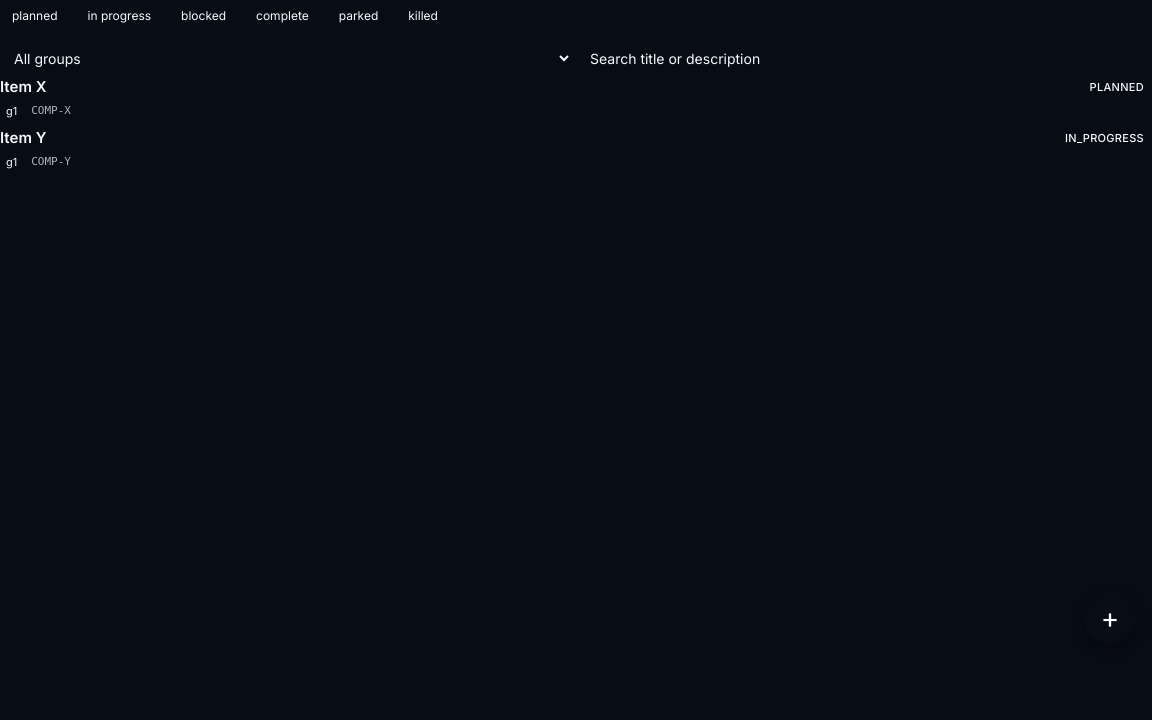
Scenario: S3: ItemDetailSheet deleteArmed disarms on field interaction › changing status field disarms a pending delete
Click the button with test id "mobile-item-card-COMP-X" at (23, 86), box [0,77,1151,120]
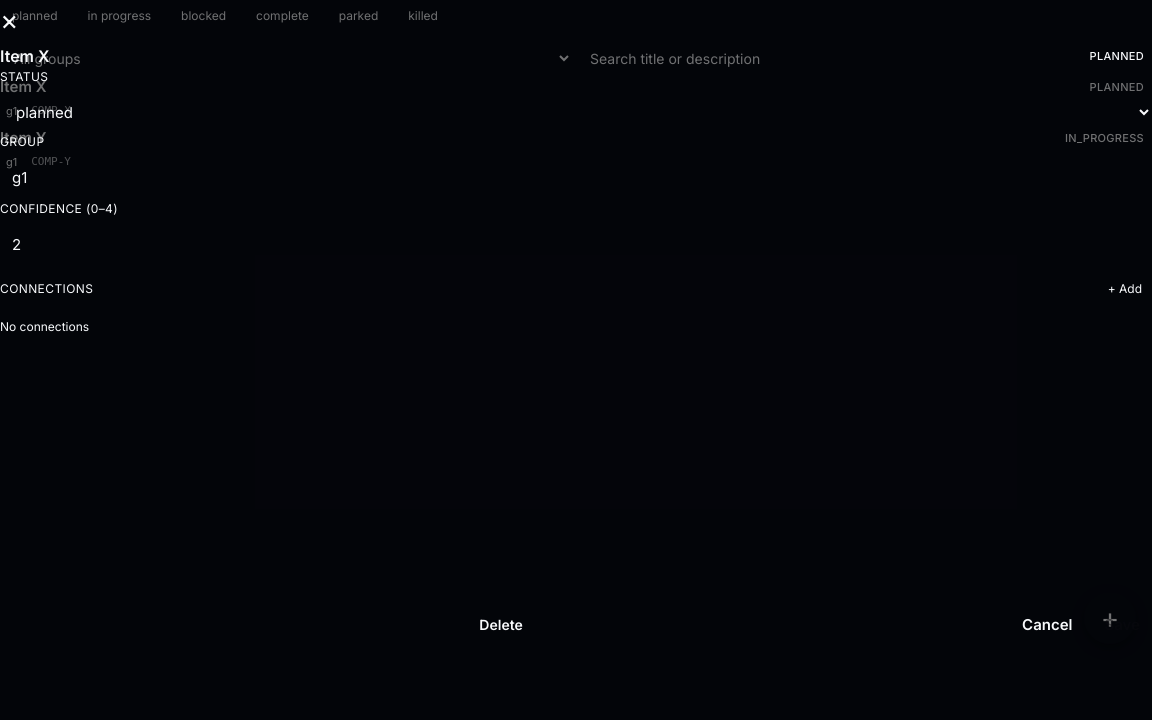
Result: the dialog with test id "mobile-item-sheet" is shown
Click the button with test id "mobile-item-sheet-delete" at (501, 625), box [0,602,1002,648]
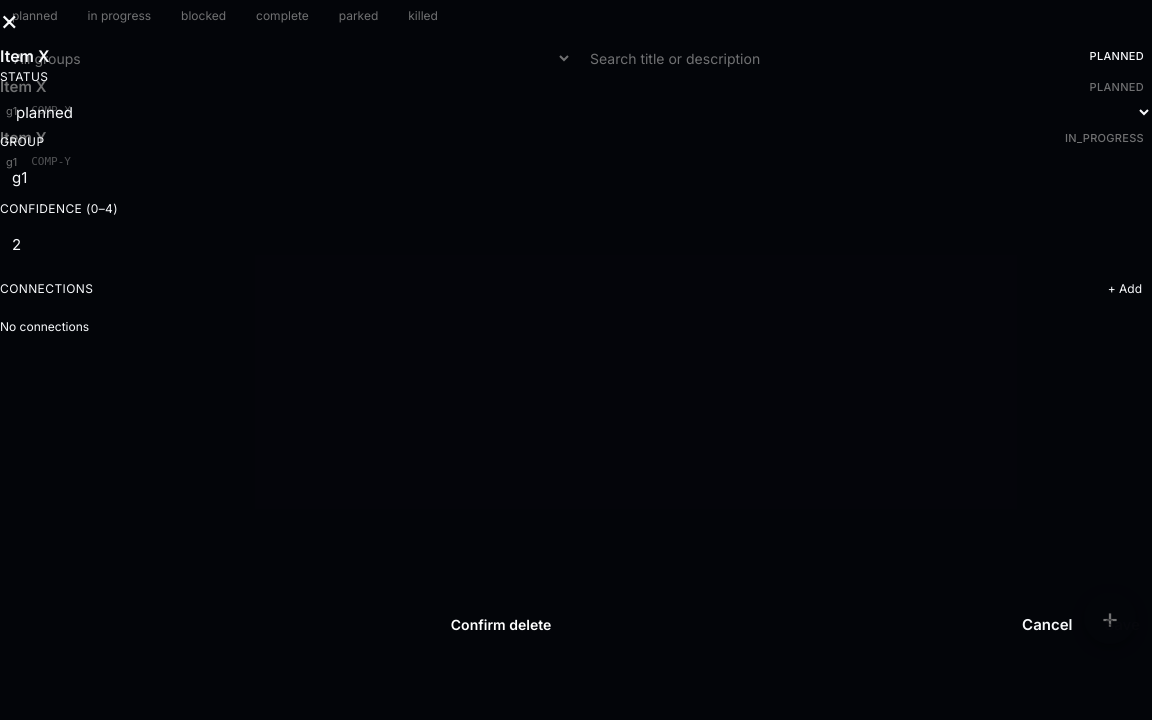
Result: the button with test id "mobile-item-sheet-delete" shows "Confirm" at [0,602,1002,648]
Select "in_progress" in the dropdown with test id "mobile-item-sheet-status" at (576, 112), box [0,92,1151,133]
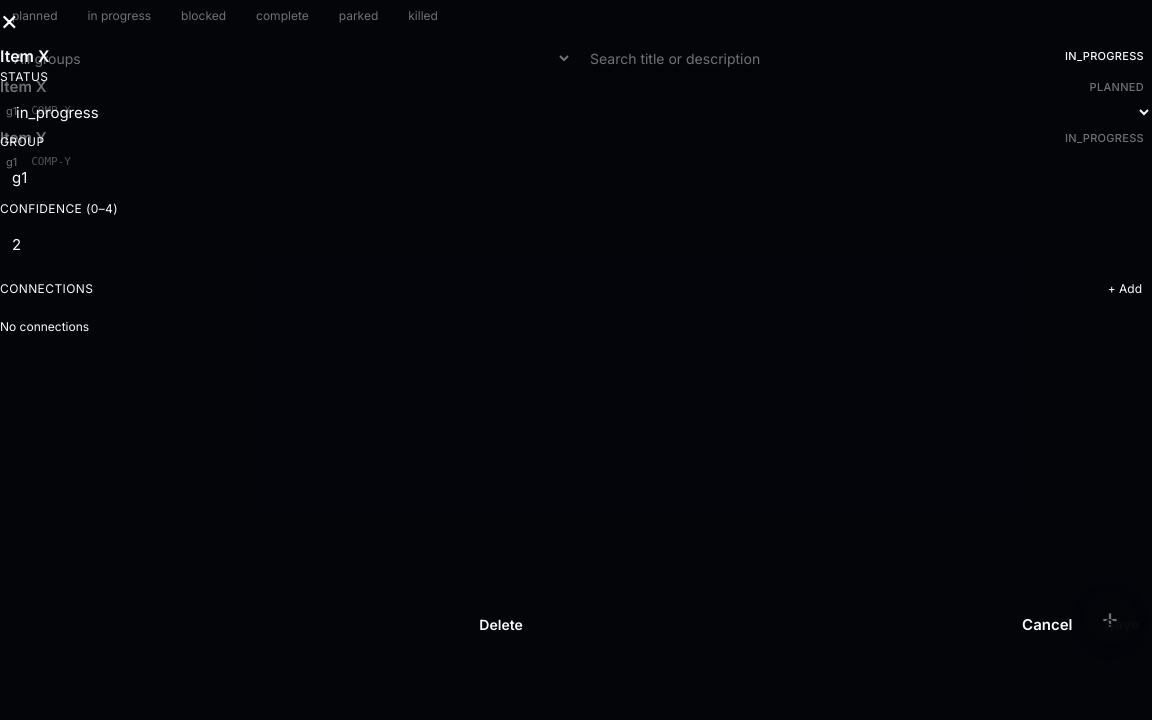
Result: the button with test id "mobile-item-sheet-delete" no longer shows "Confirm"
